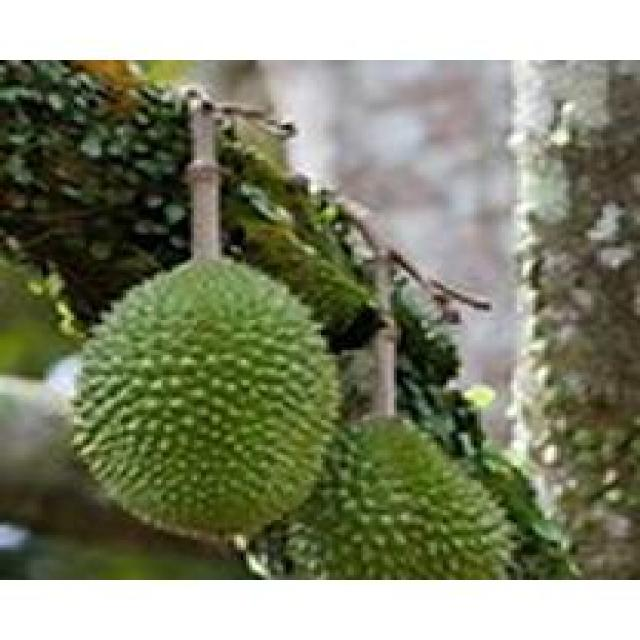fruit: (28, 218, 403, 560)
